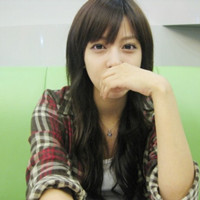face: (83, 17, 143, 94)
